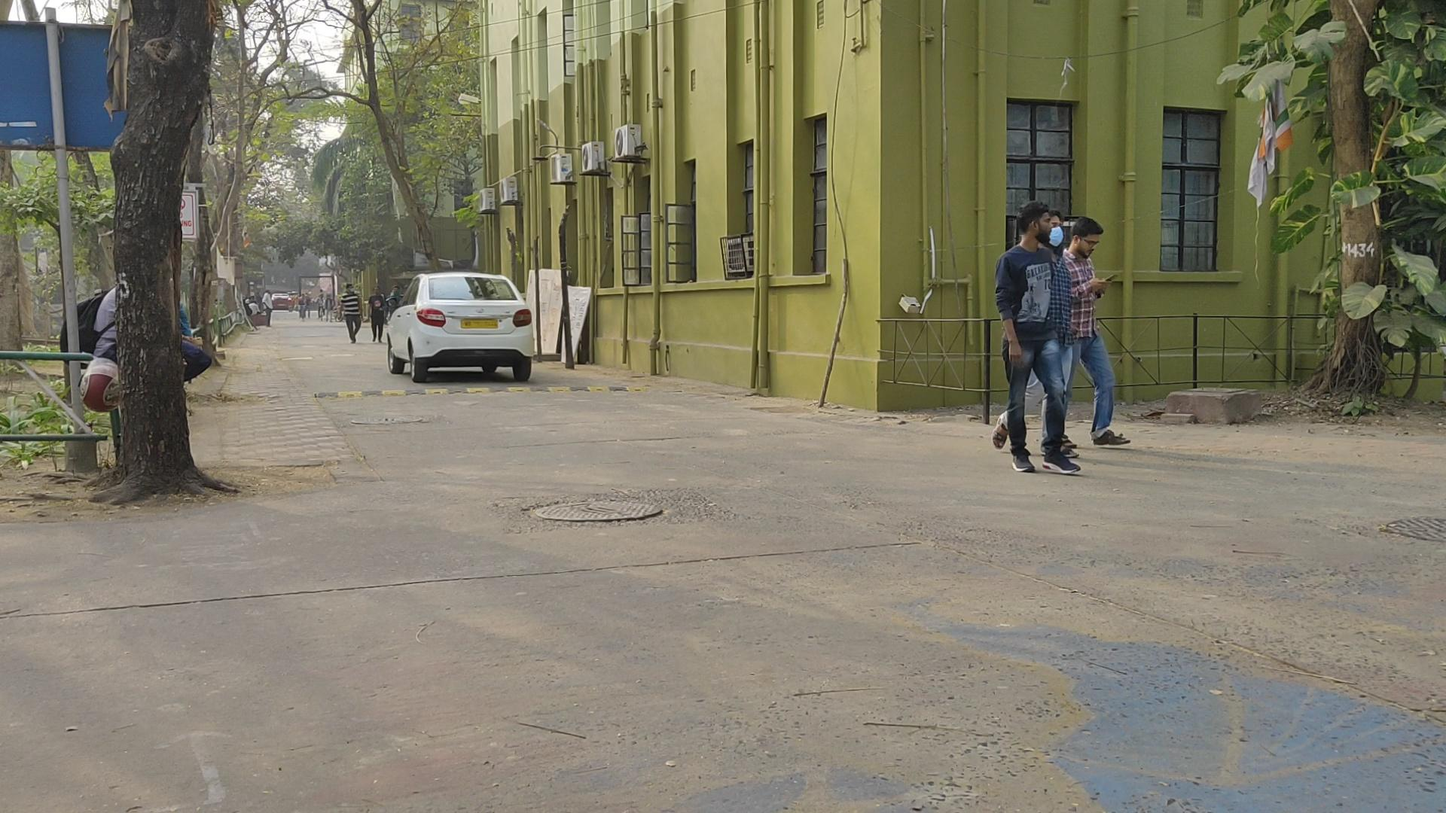car: (387, 272, 533, 382)
